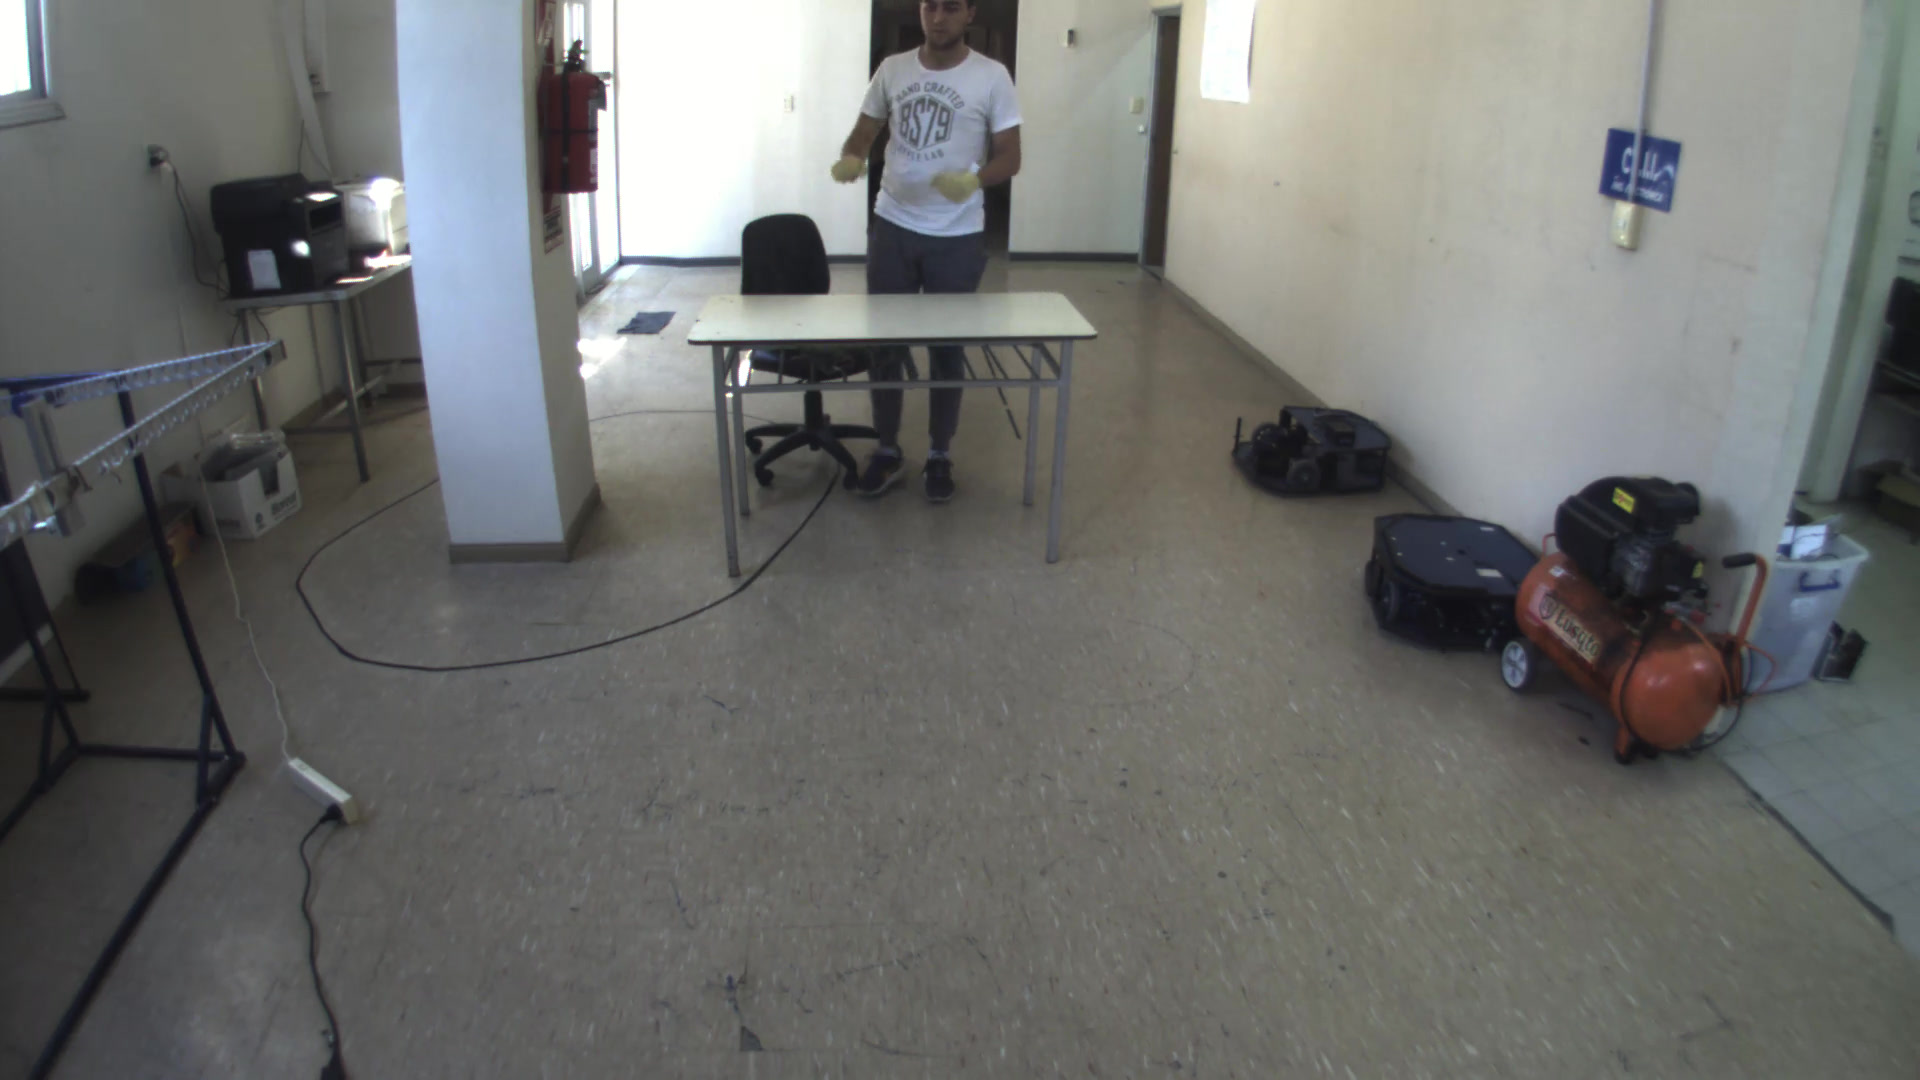hand: (924, 158, 981, 210), (825, 137, 874, 193)
